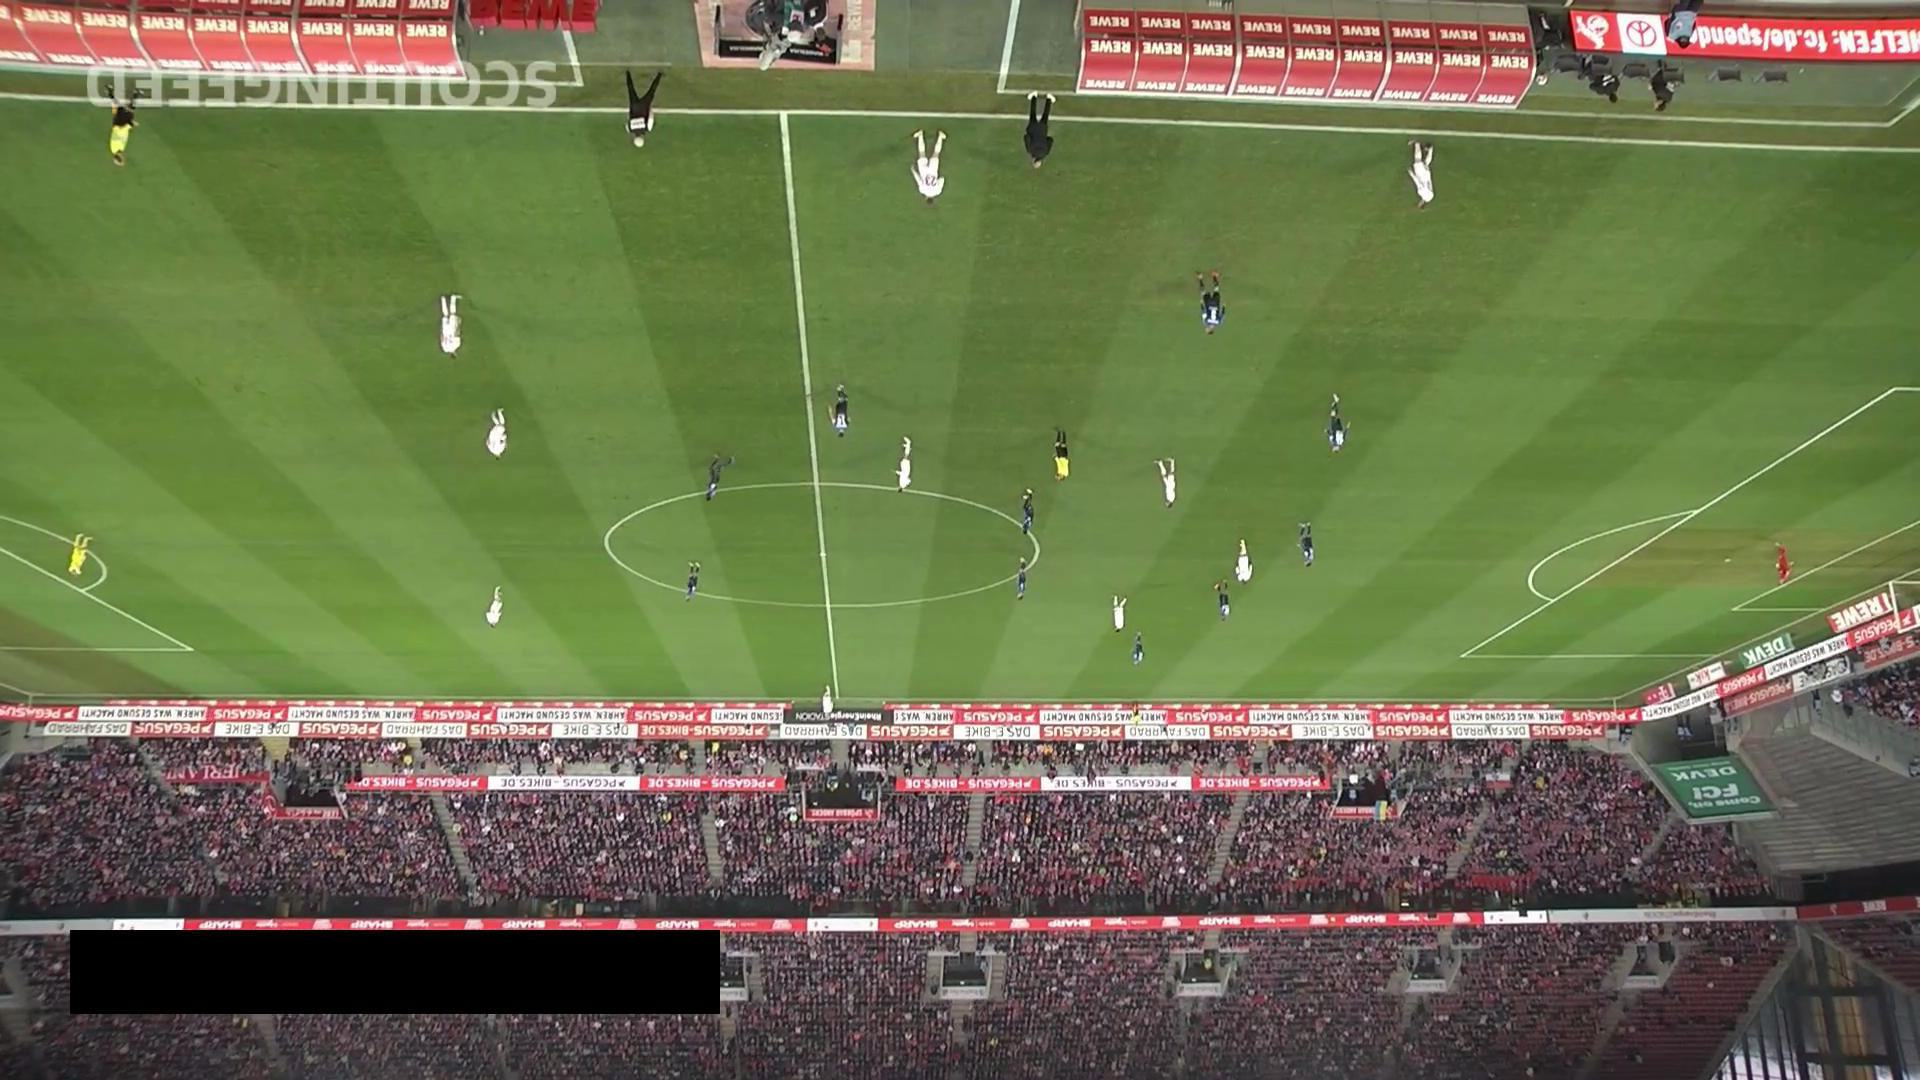ball: (500, 433, 509, 442)
goalkeeper: (68, 531, 96, 577), (1774, 543, 1793, 585)
player: (911, 129, 947, 208), (1193, 270, 1227, 337), (1406, 141, 1435, 212), (439, 294, 463, 361), (1325, 394, 1349, 455), (705, 453, 734, 502), (828, 384, 851, 440), (891, 436, 913, 494), (1154, 458, 1177, 510), (486, 408, 508, 461), (1234, 539, 1253, 587), (1296, 521, 1314, 568), (485, 585, 504, 629), (684, 561, 701, 603), (1020, 489, 1035, 536), (1015, 554, 1029, 602), (1215, 580, 1230, 623), (1112, 595, 1128, 635), (820, 683, 836, 721), (1131, 631, 1144, 666)
referee: (103, 81, 148, 167), (1051, 428, 1070, 484), (1130, 699, 1142, 729)
